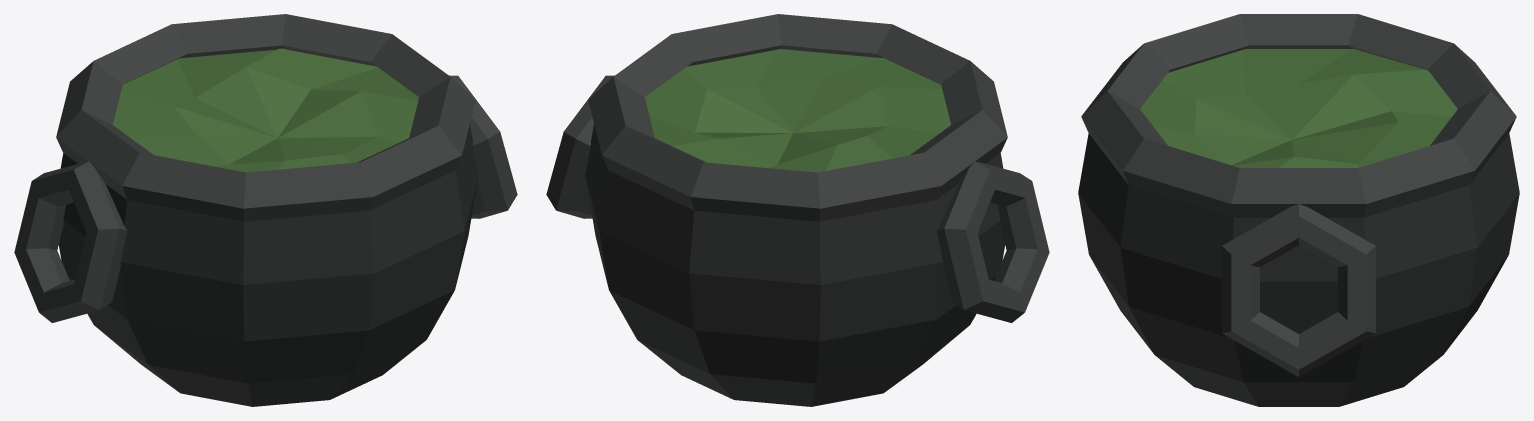
Rendered from Cauldron_2_Black.fbx.
3 renders of one model, left to right at view 1: azimuth 30°, elevation 25°; view 2: azimuth 150°, elevation 25°; view 3: azimuth 270°, elevation 25°, orthographic.
Parts seen in each view (by area): view 1: Cauldron_2_Black_Part_1, Cauldron_2_Black_Part_2, Cauldron_2_Black_Part_3; view 2: Cauldron_2_Black_Part_1, Cauldron_2_Black_Part_2, Cauldron_2_Black_Part_3; view 3: Cauldron_2_Black_Part_1, Cauldron_2_Black_Part_2, Cauldron_2_Black_Part_3.
Part boxes in pixels (x1,y1,x2,y2): Cauldron_2_Black_Part_1: [58, 124, 478, 406]; Cauldron_2_Black_Part_2: [14, 14, 517, 322]; Cauldron_2_Black_Part_3: [113, 48, 418, 172]; Cauldron_2_Black_Part_1: [585, 124, 1005, 406]; Cauldron_2_Black_Part_2: [546, 14, 1049, 322]; Cauldron_2_Black_Part_3: [645, 49, 950, 172]; Cauldron_2_Black_Part_1: [1078, 133, 1519, 406]; Cauldron_2_Black_Part_2: [1081, 14, 1516, 376]; Cauldron_2_Black_Part_3: [1140, 49, 1457, 167].
Bounding box in the file's own units: 241 × 132 × 200.
